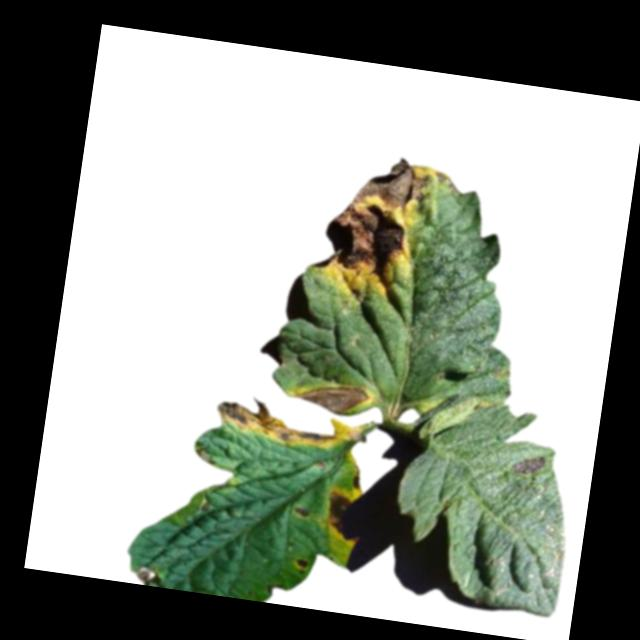Early_blight: (318, 149, 430, 288), (212, 392, 343, 454), (297, 378, 374, 415), (321, 489, 350, 527), (510, 454, 547, 478), (291, 505, 313, 520), (292, 559, 311, 573)
